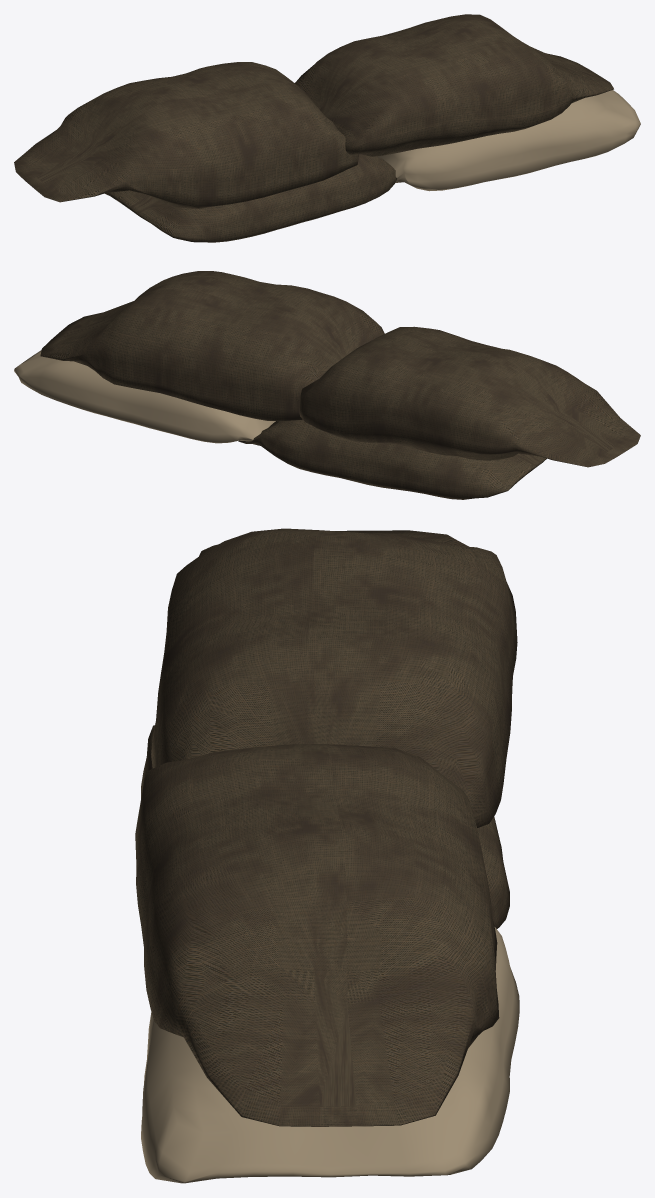
File: S7U_SandbagsL_2L_A.fbx
3 renders of one model, top to bottom at view 1: azimuth 30°, elevation 25°; view 2: azimuth 150°, elevation 25°; view 3: azimuth 270°, elevation 25°, orthographic. The views are drawn at different scales.
Parts seen in each view (by area): view 1: S7U_SandbagsL_2L_A; view 2: S7U_SandbagsL_2L_A; view 3: S7U_SandbagsL_2L_A.
Part boxes in pixels (bbox=[...]): S7U_SandbagsL_2L_A: bbox=[14, 14, 640, 242]; S7U_SandbagsL_2L_A: bbox=[14, 271, 640, 499]; S7U_SandbagsL_2L_A: bbox=[135, 528, 519, 1183].
Bounding box in the file's own units: 2.13 × 0.442 × 0.6162.
